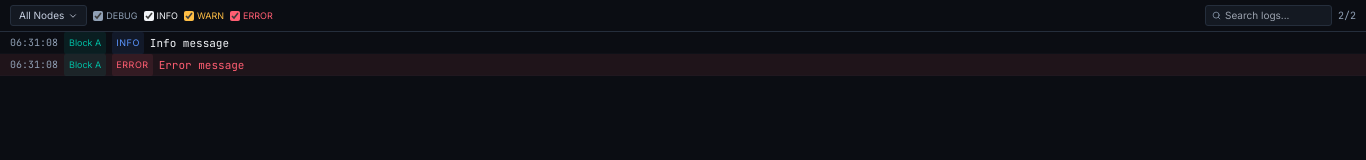
Scenario: LogViewer › filters logs by severity toggle
Check: the text "Info message" is shown, box [150, 36, 229, 50]
Check: the text "Error message" is shown, box [159, 58, 244, 72]
What coordinates should you click on to do the following:
click the checkbox labelled "info"
I would click on:
 (148, 16)
Its box is [144, 10, 154, 20].
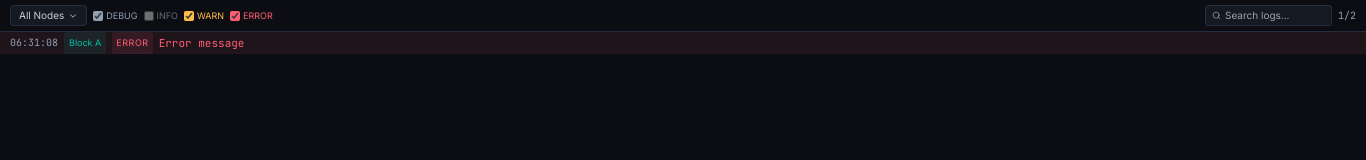
Check: the text "Info message" is gone
Check: the text "Error message" is shown, box [159, 36, 244, 50]
